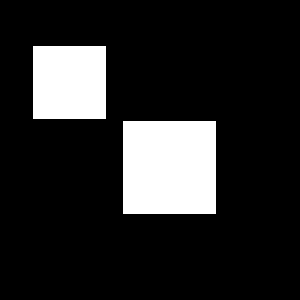circle: (123, 121, 216, 214), (33, 46, 106, 119)
